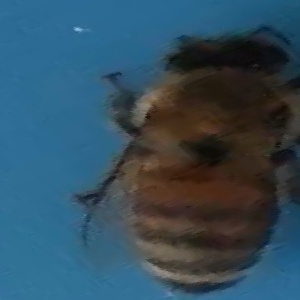bee: (82, 21, 297, 292)
